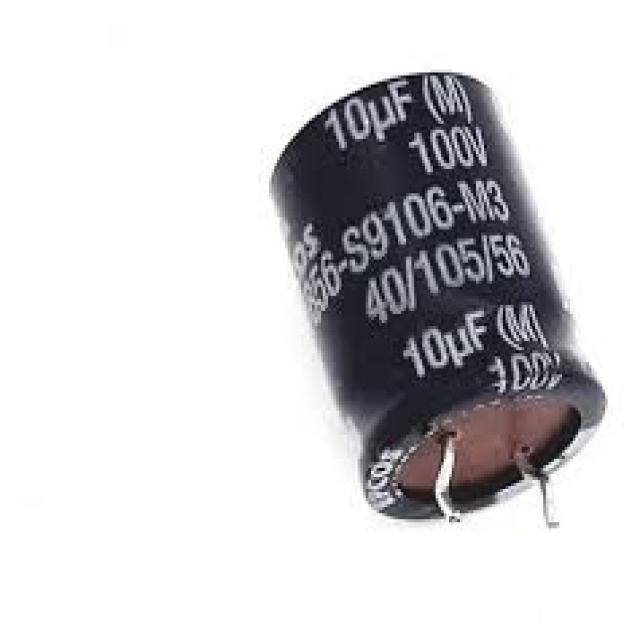Capacitor: (266, 69, 608, 525)
